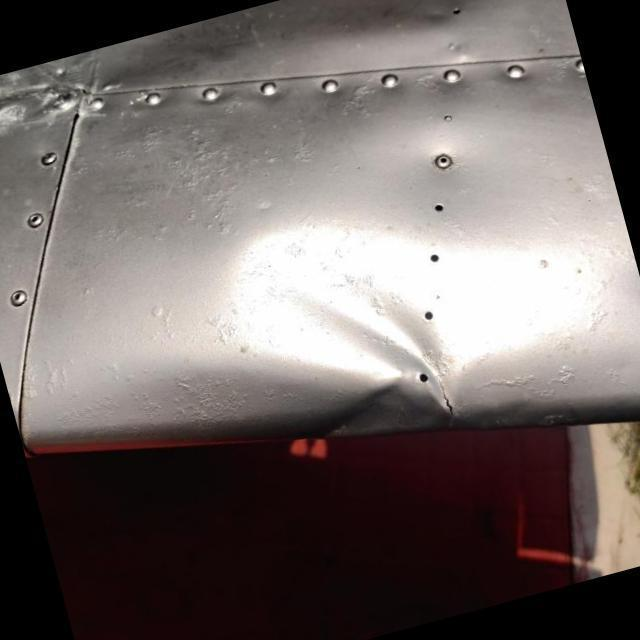Missing Fastener: (424, 238, 450, 272), (421, 296, 441, 330), (412, 365, 434, 385), (428, 198, 447, 214)
dent: (221, 224, 461, 434)
